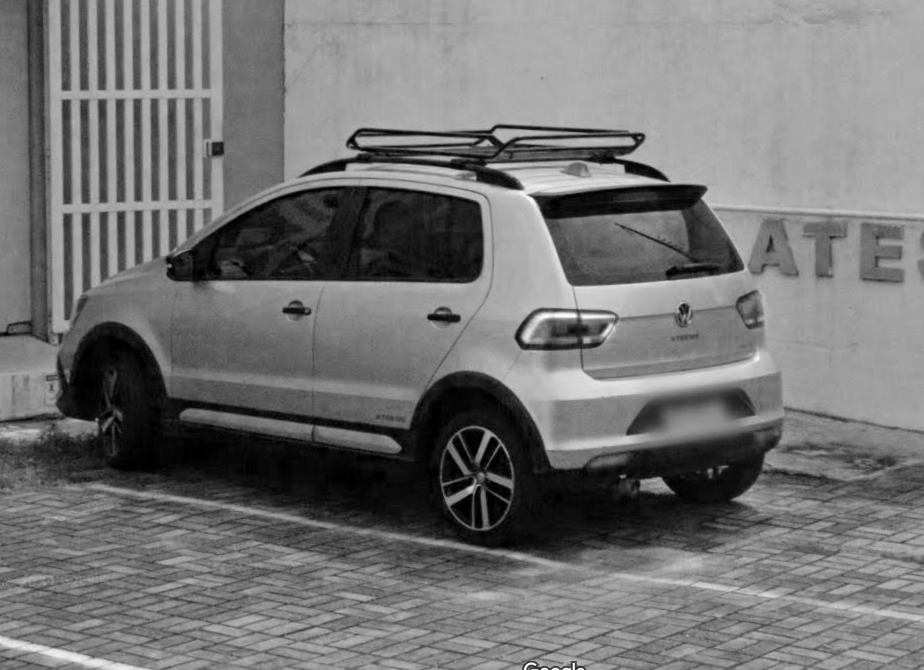car: (51, 121, 787, 547)
